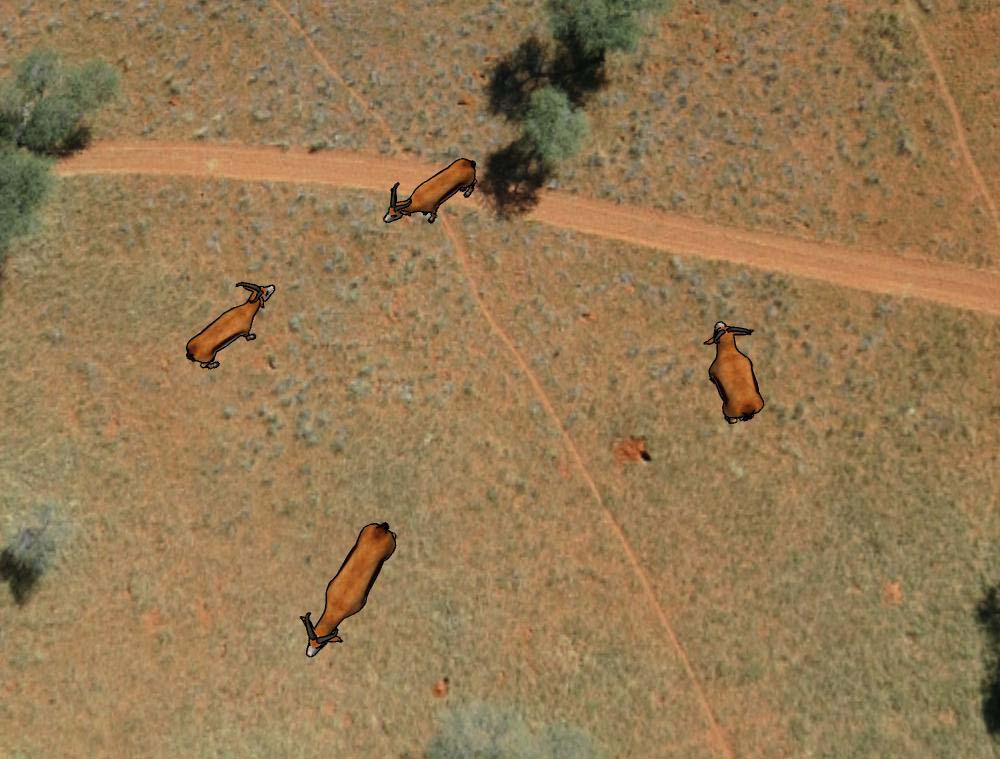springbok: (298, 517, 400, 656), (179, 281, 282, 368), (696, 316, 774, 430), (382, 158, 481, 232)
